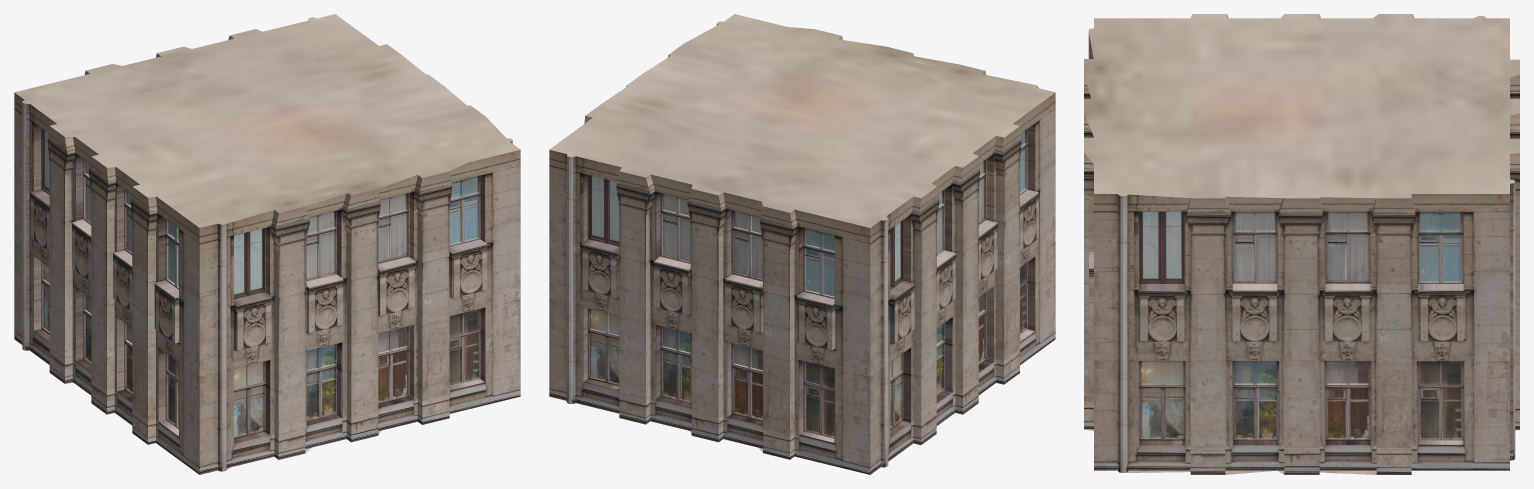
The model's file is edificios.fbx.
3 renders of one model, left to right at view 1: azimuth 30°, elevation 25°; view 2: azimuth 150°, elevation 25°; view 3: azimuth 270°, elevation 25°, orthographic. The views are drawn at different scales.
Visible parts, largest first — view 1: wmremove-transformed (1); view 2: wmremove-transformed (1); view 3: wmremove-transformed (1).
Boxes of the visible parts, x1,y1,x2,y2 form: wmremove-transformed (1): [14, 14, 520, 474]; wmremove-transformed (1): [549, 14, 1055, 474]; wmremove-transformed (1): [1084, 14, 1519, 474].
Bounding box in the file's own units: 2521 × 1766 × 2521.
